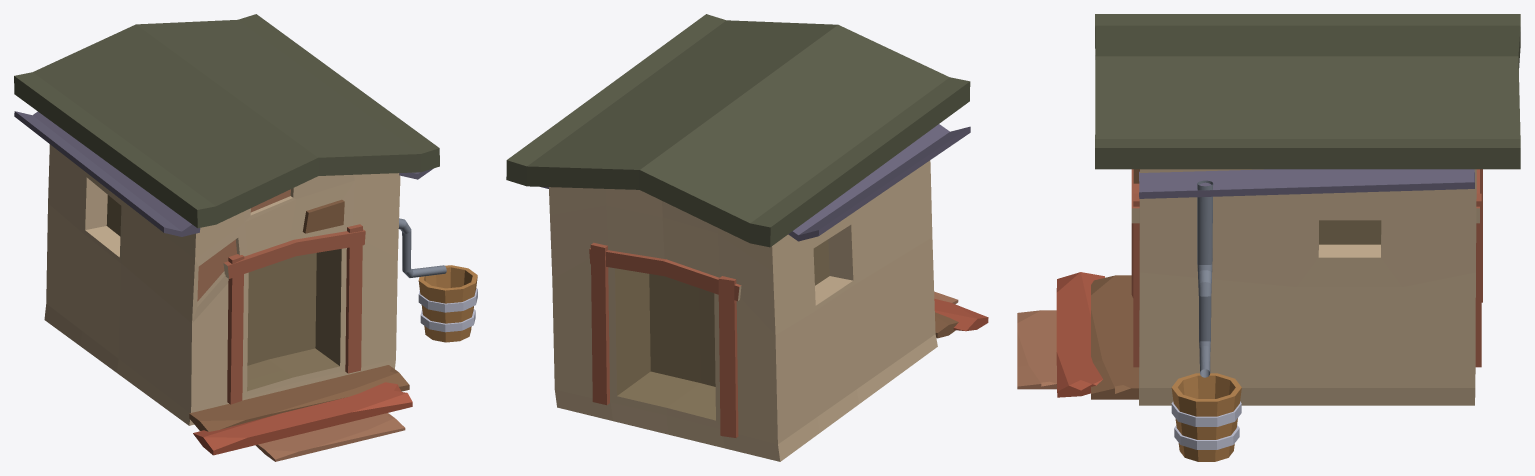
File: house.fbx
3 renders of one model, left to right at view 1: azimuth 30°, elevation 25°; view 2: azimuth 150°, elevation 25°; view 3: azimuth 270°, elevation 25°, orthographic. The views are drawn at different scales.
Visible parts, largest first — view 1: house; view 2: house; view 3: house.
Part boxes in pixels (x1=…): house: x1=14, y1=14, x2=477, y2=461; house: x1=506, y1=14, x2=988, y2=461; house: x1=1017, y1=14, x2=1520, y2=461.
Size of the model in its own units: 660 by 476 by 716.
